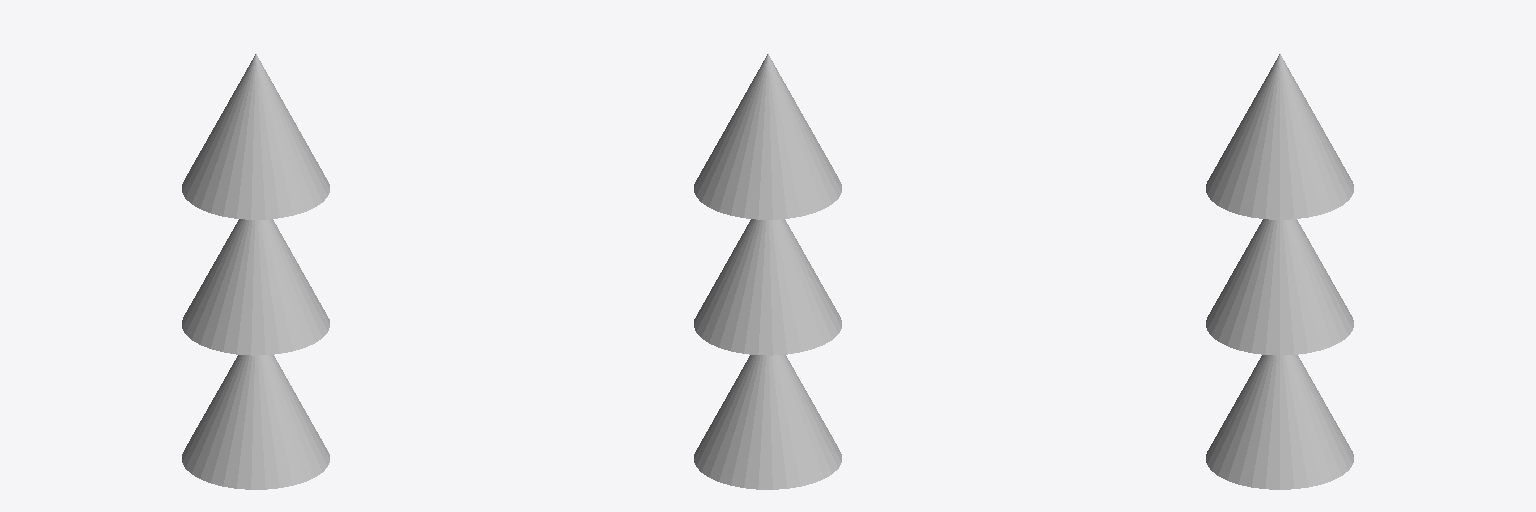
File: cones.obj
3 renders of one model, left to right at view 1: azimuth 30°, elevation 25°; view 2: azimuth 150°, elevation 25°; view 3: azimuth 270°, elevation 25°, orthographic.
Visible parts, largest first — view 1: Cone_Cone.002; view 2: Cone_Cone.002; view 3: Cone_Cone.002.
Part boxes in pixels (x1,y1,x2,y2): Cone_Cone.002: (182,54,329,489); Cone_Cone.002: (694,54,841,489); Cone_Cone.002: (1206,54,1353,489).
Size of the model in its own units: 2 by 6 by 2.